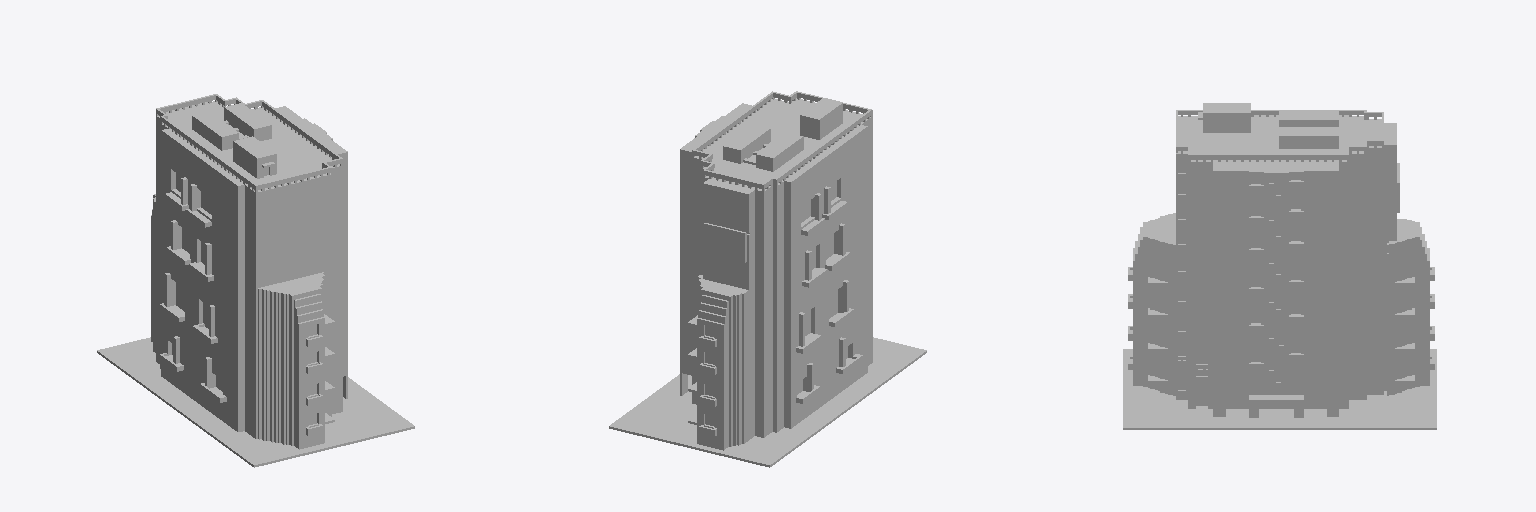
File: building1.obj
The picture shows the model from 3 angles: view 1: azimuth 30°, elevation 25°; view 2: azimuth 150°, elevation 25°; view 3: azimuth 270°, elevation 25°; orthographic projection.
Parts seen in each view (by area): view 1: object 1; view 2: object 1; view 3: object 1.
Boxes of the visible parts, <box> form: object 1: <box>97,94,414,467</box>; object 1: <box>609,91,926,467</box>; object 1: <box>1123,103,1436,429</box>.
Bounding box in the file's own units: 7.4 × 11.8 × 12.5.